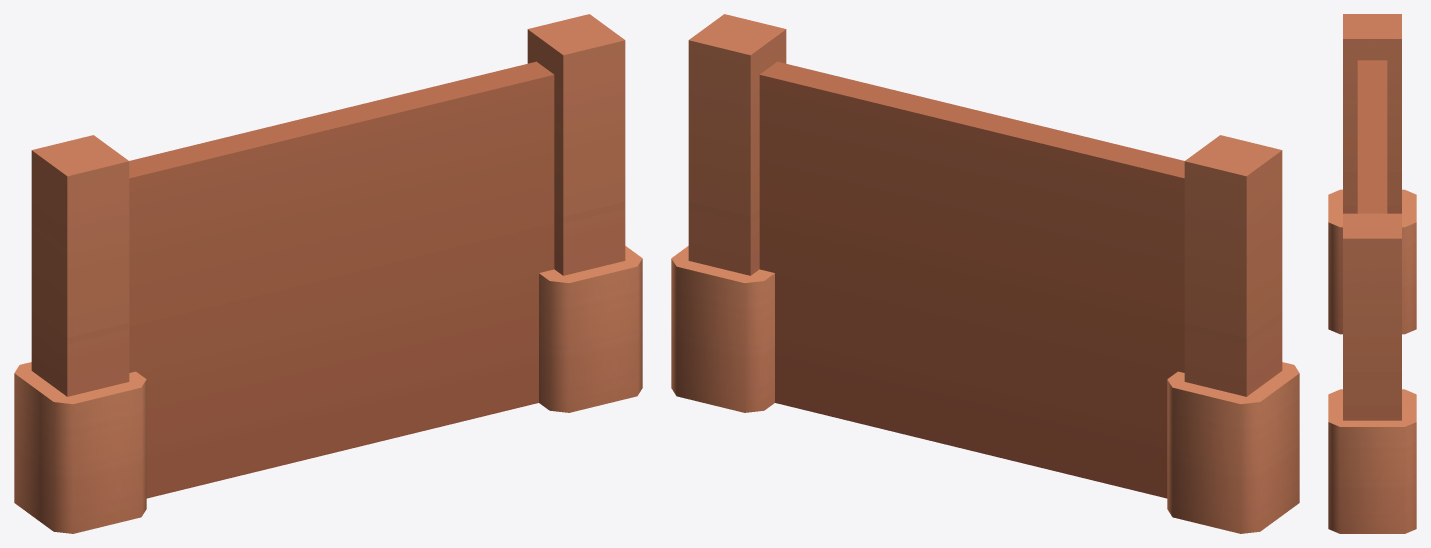
File: fence.draco.glb
3 views of the same model, side by side, from view 1: azimuth 30°, elevation 25°; view 2: azimuth 150°, elevation 25°; view 3: azimuth 270°, elevation 25° (orthographic). The views are drawn at different scales.
Visible parts, largest first — view 1: fence; view 2: fence; view 3: fence.
Part boxes in pixels (bbox=[...]): fence: bbox=[14, 14, 642, 533]; fence: bbox=[671, 14, 1299, 533]; fence: bbox=[1328, 14, 1416, 533].
Size of the model in its own units: 0.475 by 0.27 by 0.075.
1 material, 1 textured.
